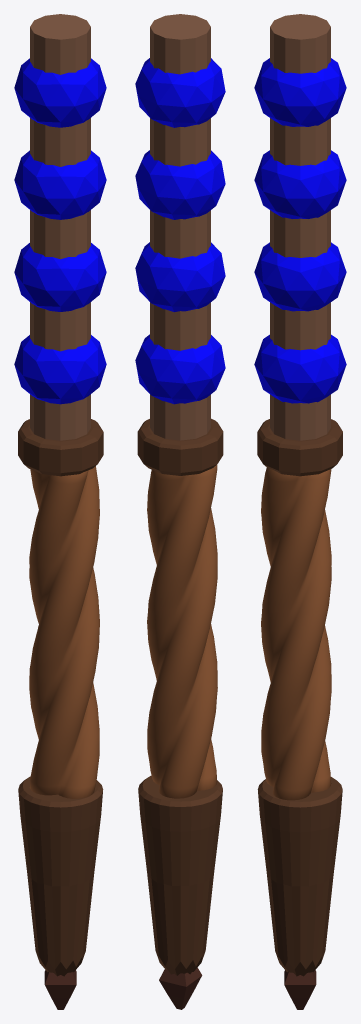
Rendered from Wand 835.glb.
3 renders of one model, left to right at view 1: azimuth 90°, elevation 25°; view 2: azimuth 150°, elevation 25°; view 3: azimuth 270°, elevation 25°, orthographic.
Visible parts, largest first — view 1: GeneratedWand; view 2: GeneratedWand; view 3: GeneratedWand.
Boxes of the visible parts, box(x1,y1,x2,y2) form: GeneratedWand: box(14, 14, 106, 1009); GeneratedWand: box(135, 14, 225, 1009); GeneratedWand: box(254, 14, 346, 1009).
Bounding box in the file's own units: 0.0407 × 0.5025 × 0.0428.
